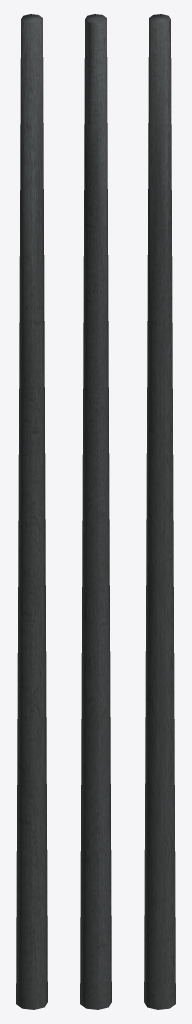
Rendered from pole_concrete_a_lod_1.glb.
The picture shows the model from 3 angles, left to right: view 1: azimuth 30°, elevation 25°; view 2: azimuth 210°, elevation 25°; view 3: azimuth 330°, elevation 25°; orthographic projection.
Visible parts, largest first — view 1: pole_concrete_a_lod_1; view 2: pole_concrete_a_lod_1; view 3: pole_concrete_a_lod_1.
Part boxes in pixels (x1=…): pole_concrete_a_lod_1: x1=16, y1=14, x2=47, y2=1009; pole_concrete_a_lod_1: x1=80, y1=14, x2=111, y2=1009; pole_concrete_a_lod_1: x1=144, y1=14, x2=175, y2=1009.
Bounding box in the file's own units: 0.2772 × 10.2 × 0.2772.
1 material, 1 textured.
